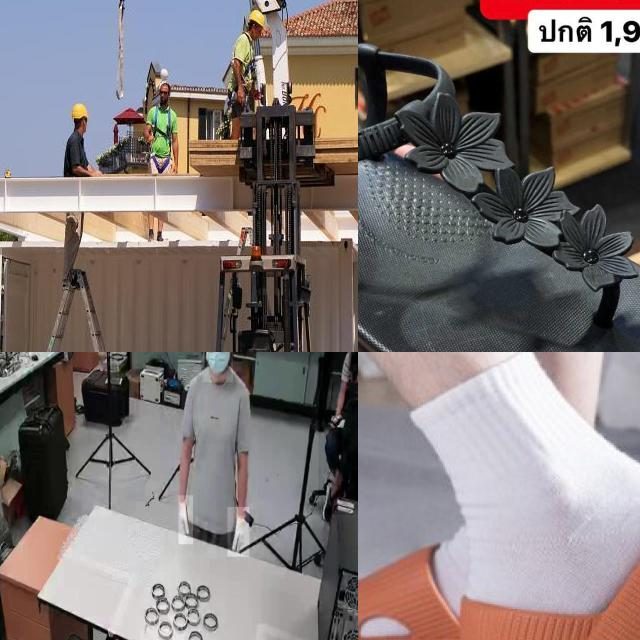Harness: (143, 102, 184, 176)
Sandals: (358, 0, 640, 352), (358, 446, 640, 640)
face_mask: (228, 507, 250, 557), (202, 352, 233, 382), (178, 495, 194, 545)
person: (175, 352, 258, 558), (318, 352, 358, 516)
